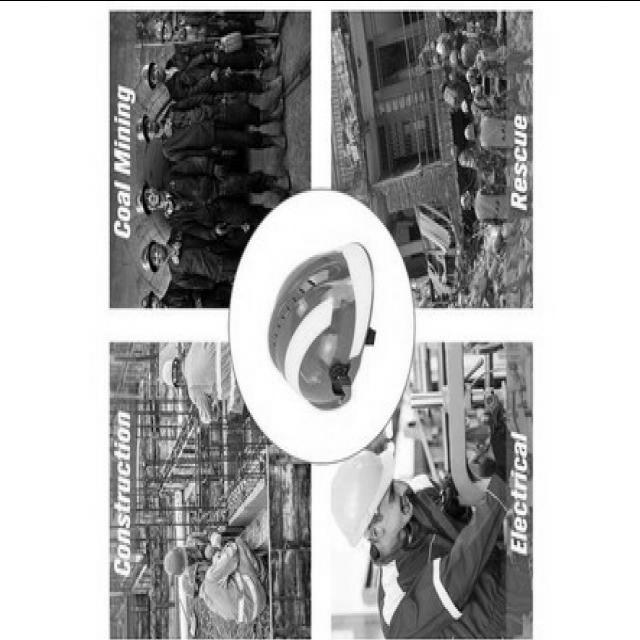construction helmet: (269, 241, 374, 407), (329, 442, 397, 548), (158, 354, 190, 392), (166, 544, 188, 576), (181, 570, 196, 597)
